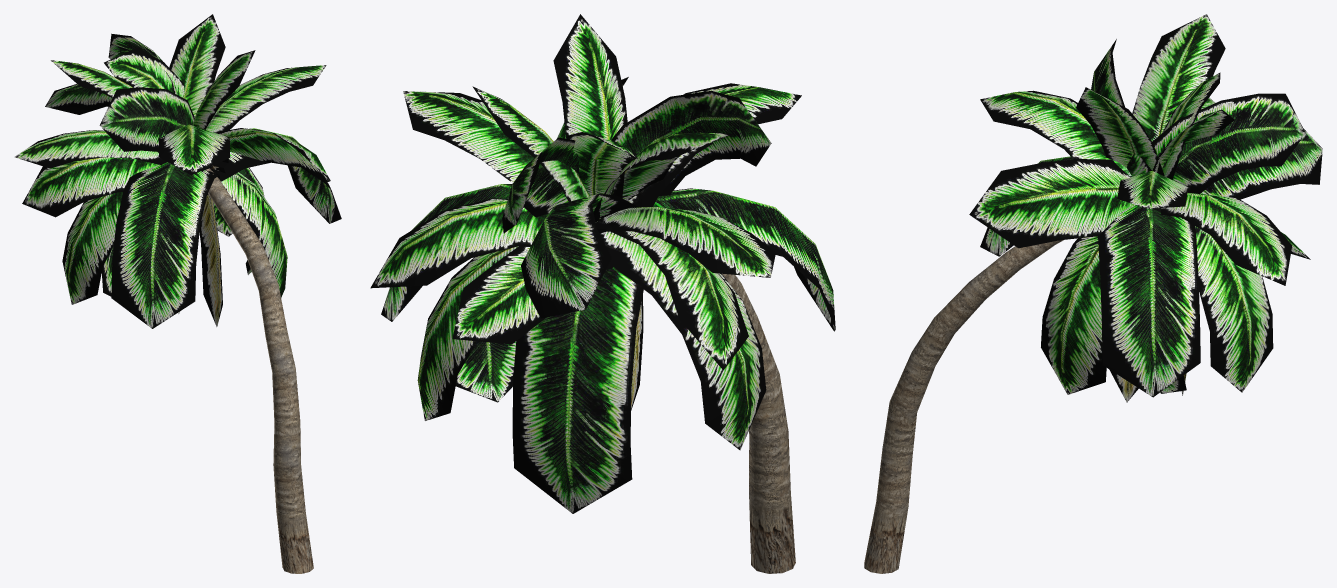
Rendered from palm4.dae.
3 views of the same model, side by side, from view 1: azimuth 30°, elevation 25°; view 2: azimuth 150°, elevation 25°; view 3: azimuth 270°, elevation 25° (orthographic). The views are drawn at different scales.
Visible parts, largest first — view 1: polySurface335_001_006; view 2: polySurface335_001_006; view 3: polySurface335_001_006.
Part boxes in pixels (x1,y1,x2,y2): polySurface335_001_006: (14, 14, 341, 573); polySurface335_001_006: (370, 14, 835, 573); polySurface335_001_006: (864, 14, 1322, 573).
Bounding box in the file's own units: 5.71 × 6.81 × 8.28.
2 materials, 2 textured.
